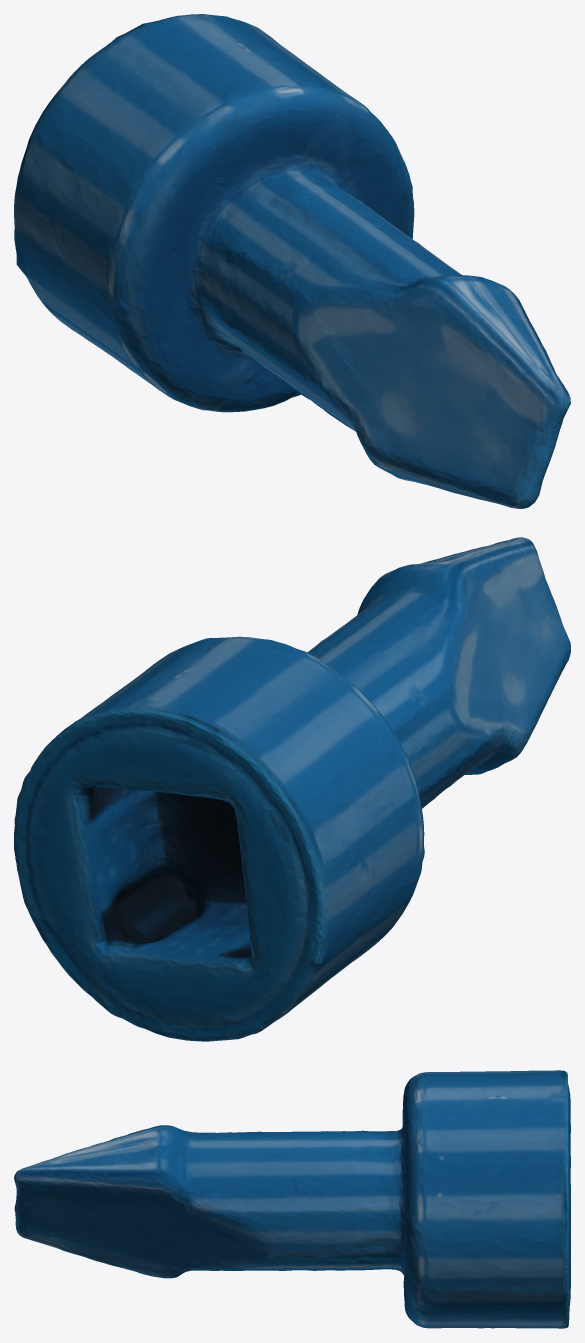
File: e_toy_airplane.glb
3 renders of one model, top to bottom at view 1: azimuth 30°, elevation 25°; view 2: azimuth 150°, elevation 25°; view 3: azimuth 270°, elevation 25°, orthographic. The views are drawn at different scales.
Parts seen in each view (by area): view 1: textured.obj; view 2: textured.obj; view 3: textured.obj.
Boxes of the visible parts, x1,y1,x2,y2 form: textured.obj: (14, 14, 570, 508); textured.obj: (14, 537, 570, 1041); textured.obj: (14, 1070, 570, 1328).
Bounding box in the file's own units: 0.0306 × 0.0307 × 0.0661.
1 material, 1 textured.
